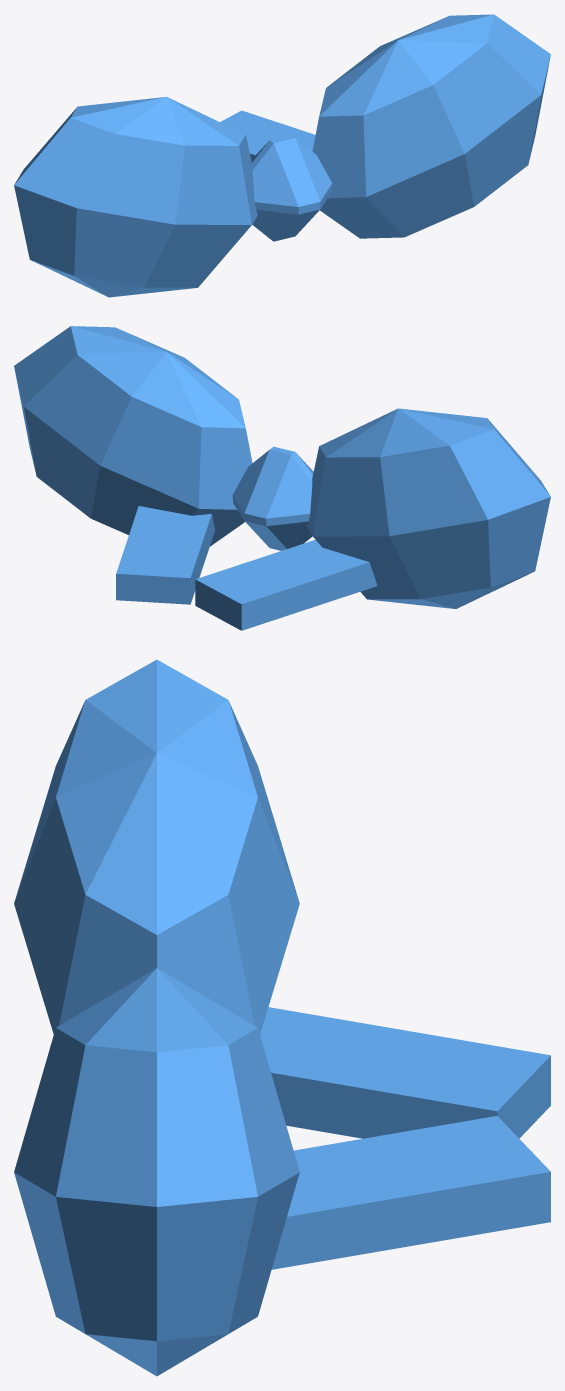
The model's file is CleanACat_Bow_Sky.fbx.
The picture shows the model from 3 angles, top to bottom: view 1: azimuth 30°, elevation 25°; view 2: azimuth 150°, elevation 25°; view 3: azimuth 270°, elevation 25°; orthographic projection. The views are drawn at different scales.
Parts seen in each view (by area): view 1: CleanACat_Bow_Sky; view 2: CleanACat_Bow_Sky; view 3: CleanACat_Bow_Sky.
Part boxes in pixels (x1=…): CleanACat_Bow_Sky: x1=14, y1=14, x2=550, y2=297; CleanACat_Bow_Sky: x1=14, y1=326, x2=550, y2=630; CleanACat_Bow_Sky: x1=14, y1=659, x2=550, y2=1376.
Size of the model in its own units: 0.7424 by 0.253 by 0.3381.
Materials: 1 (1 with a texture image).
